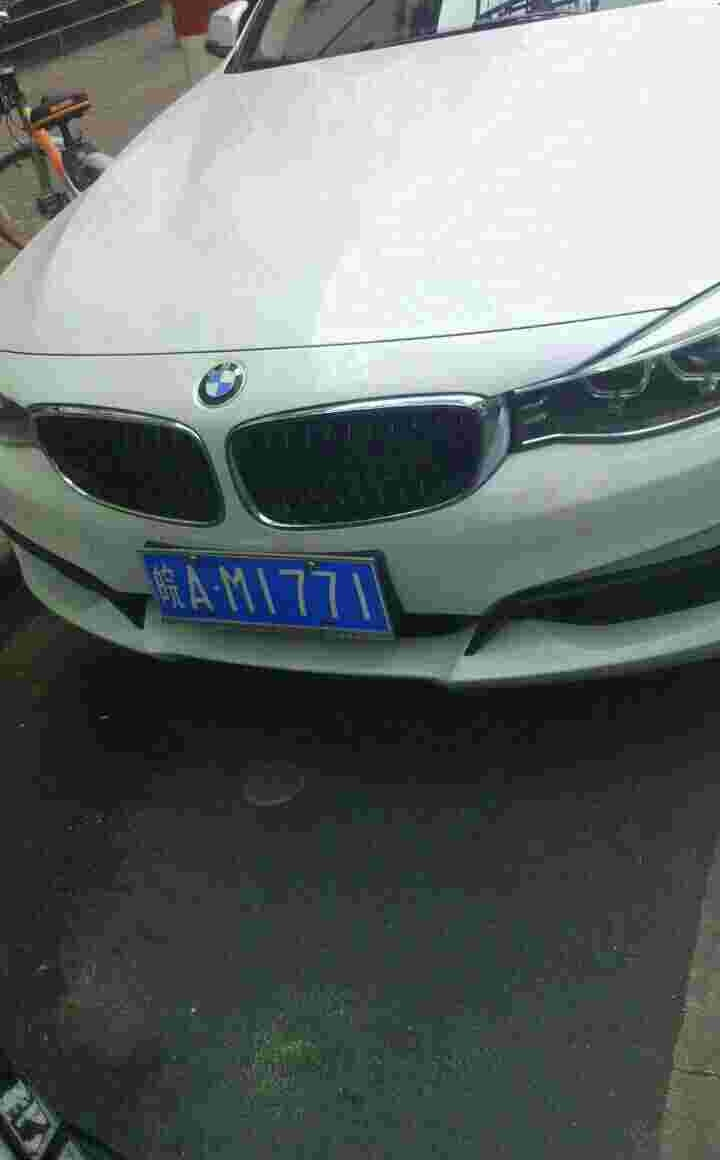plate: (134, 545, 399, 638)
